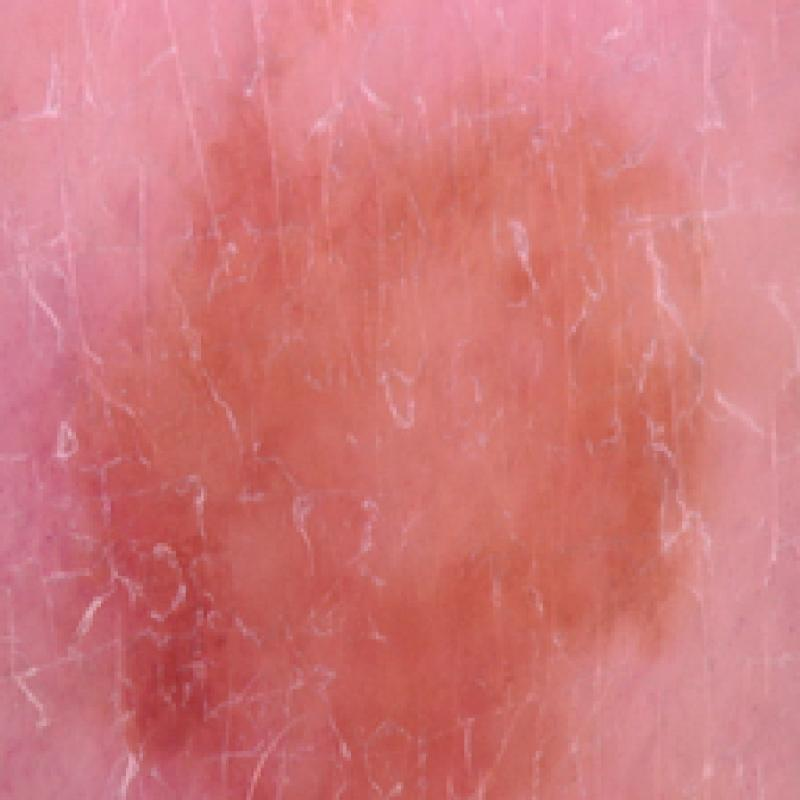benign: (23, 37, 743, 800)
